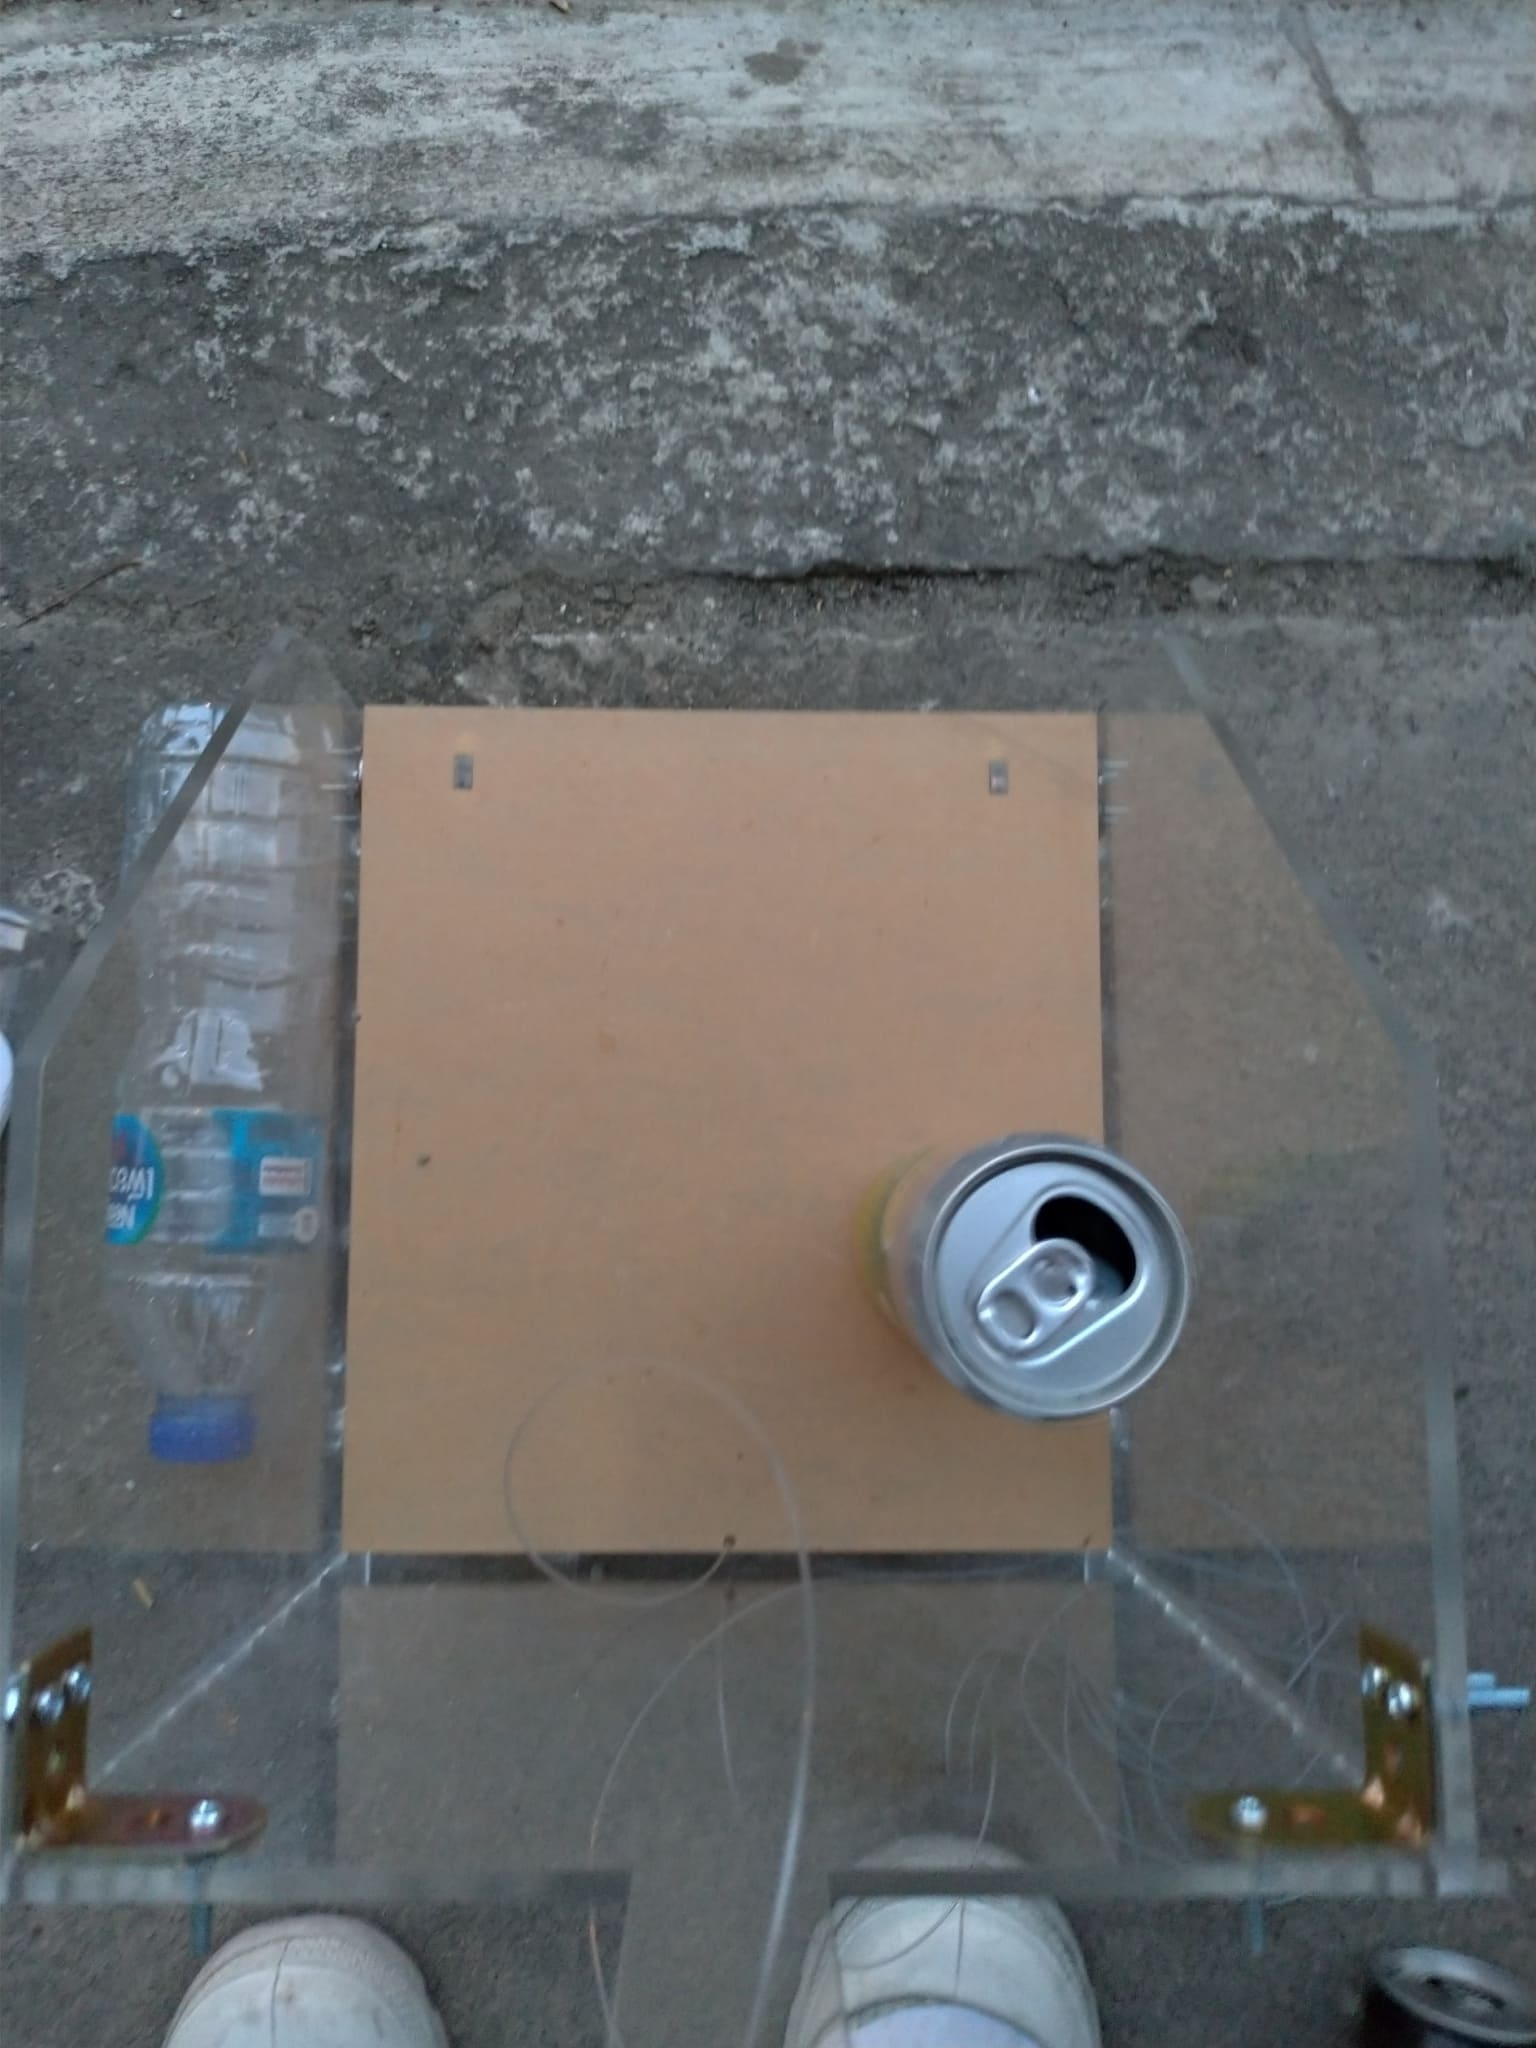AlCan: (866, 1129, 1196, 1422)
PlasticBottle: (90, 684, 353, 1467)
